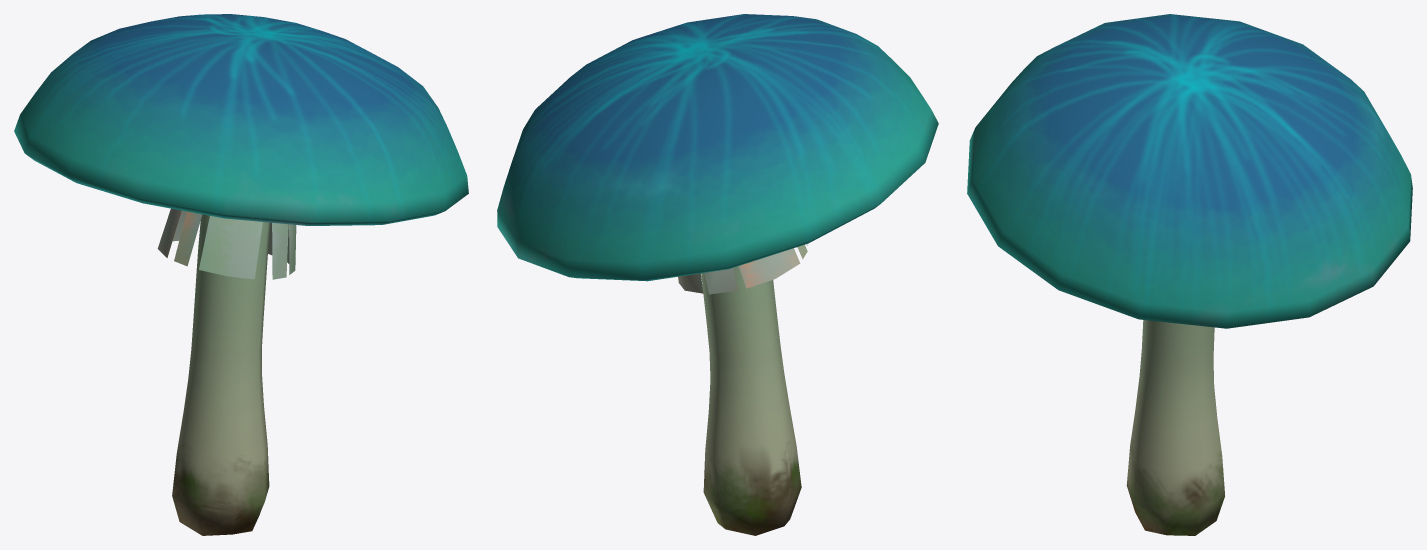
The model's file is Shroom3-optimized.glb.
The picture shows the model from 3 angles, left to right: view 1: azimuth 30°, elevation 25°; view 2: azimuth 150°, elevation 25°; view 3: azimuth 270°, elevation 25°; orthographic projection.
Visible parts, largest first — view 1: Vert.018; view 2: Vert.018; view 3: Vert.018.
Boxes of the visible parts, x1,y1,x2,y2 form: Vert.018: [14, 14, 468, 535]; Vert.018: [497, 14, 938, 535]; Vert.018: [967, 14, 1412, 535].
Size of the model in its own units: 0.5459 by 0.6711 by 0.5565.
Materials: 1 (1 with a texture image).
